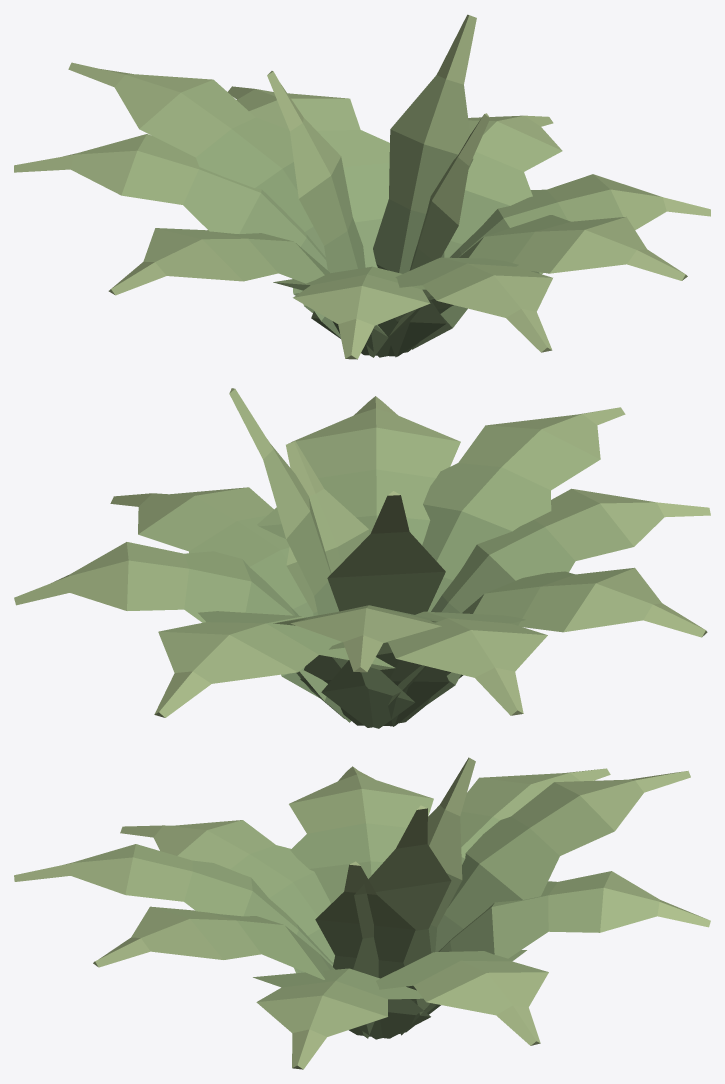
File: Fern1_leaf.glb
The picture shows the model from 3 angles, top to bottom: view 1: azimuth 30°, elevation 25°; view 2: azimuth 150°, elevation 25°; view 3: azimuth 270°, elevation 25°; orthographic projection. The views are drawn at different scales.
Visible parts, largest first — view 1: Fern1_leaf; view 2: Fern1_leaf; view 3: Fern1_leaf.
Boxes of the visible parts, x1=… form: Fern1_leaf: x1=14, y1=14, x2=710, y2=359; Fern1_leaf: x1=14, y1=388, x2=710, y2=728; Fern1_leaf: x1=14, y1=757, x2=710, y2=1069.
Size of the model in its own units: 3.14 by 1.51 by 3.52.
